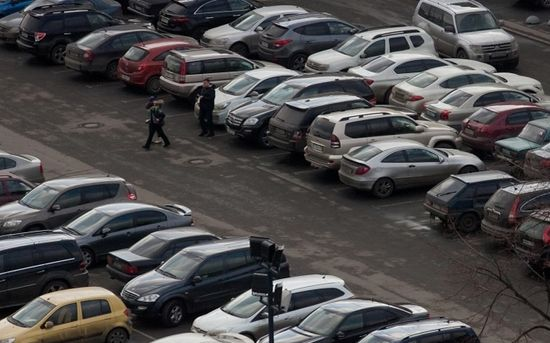Car: (120, 236, 290, 328), (225, 72, 377, 148), (190, 274, 356, 343), (304, 107, 462, 170), (267, 94, 417, 154), (338, 139, 485, 198), (60, 203, 194, 267), (0, 175, 137, 235), (16, 5, 153, 64), (256, 298, 431, 343), (348, 51, 497, 103), (160, 46, 288, 105), (0, 286, 132, 343), (412, 0, 519, 70), (106, 227, 242, 282), (63, 24, 199, 78), (388, 66, 544, 113), (0, 229, 90, 309), (200, 4, 330, 57), (257, 13, 373, 70), (304, 24, 438, 73), (420, 83, 550, 133), (424, 170, 520, 233), (213, 67, 305, 125), (0, 0, 121, 44), (460, 101, 550, 153), (480, 181, 550, 246), (117, 38, 199, 93), (156, 0, 265, 38), (357, 318, 481, 343), (493, 117, 550, 168), (513, 209, 550, 268), (0, 150, 45, 183), (0, 172, 40, 206), (148, 332, 254, 343), (127, 0, 174, 22), (523, 143, 550, 180), (0, 0, 33, 18)
